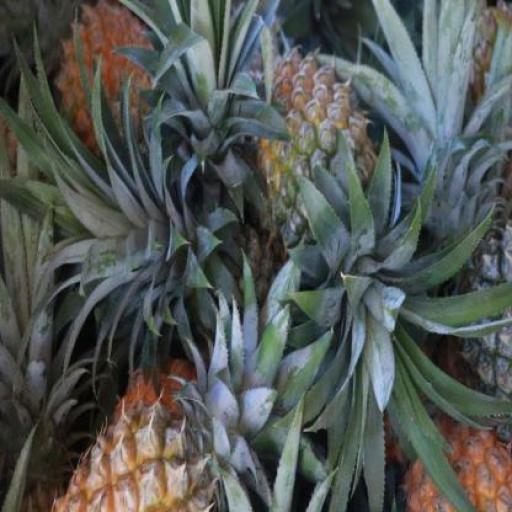------------------------------: (244, 49, 384, 259)
Pineapple - v8 v1: (50, 404, 232, 510)
